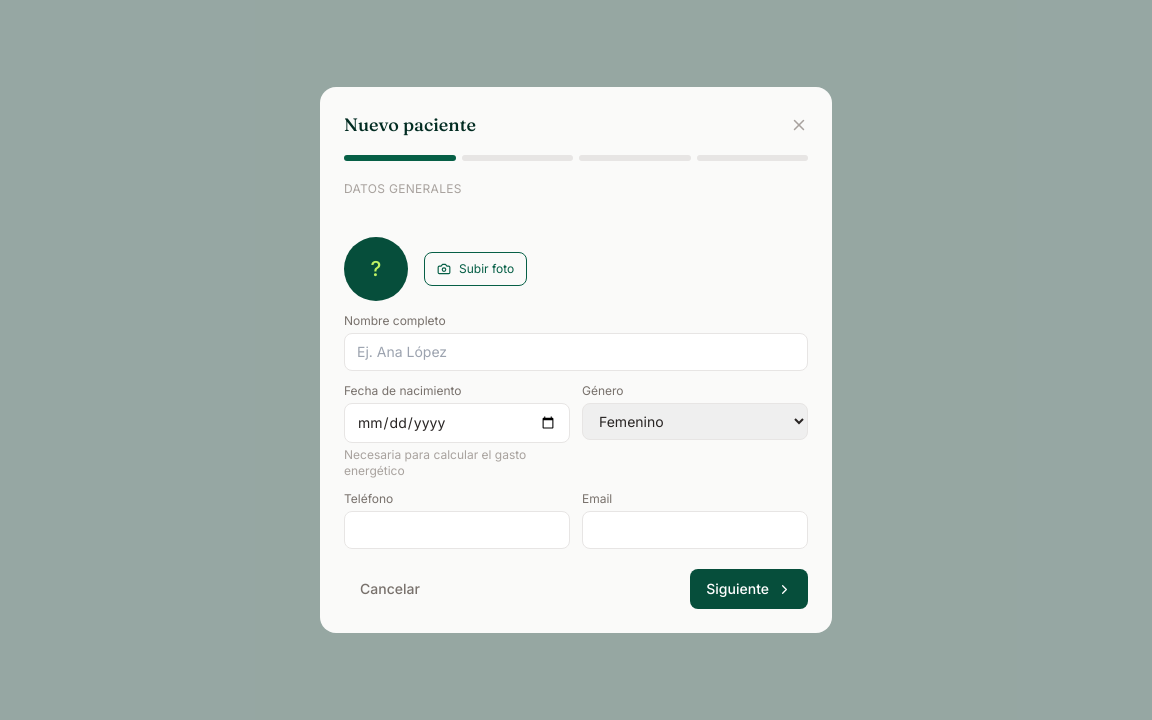
Test: condiciones médicas escritas por el nutriólogo › la agrega con Enter sin salir del campo
Click the button "Siguiente": x=749, y=589 [690, 569, 808, 609]
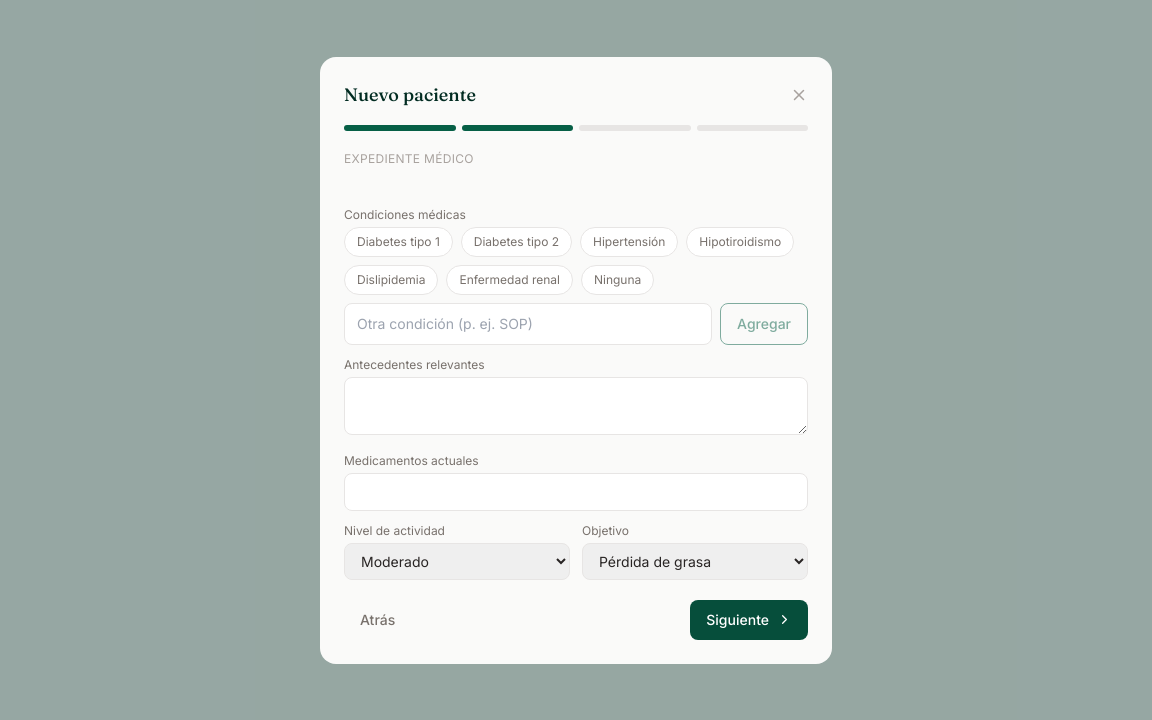
In the field with placeholder "Otra condición (p. ej. SOP)": x=528, y=324 [344, 302, 712, 344], type "Gastritis"
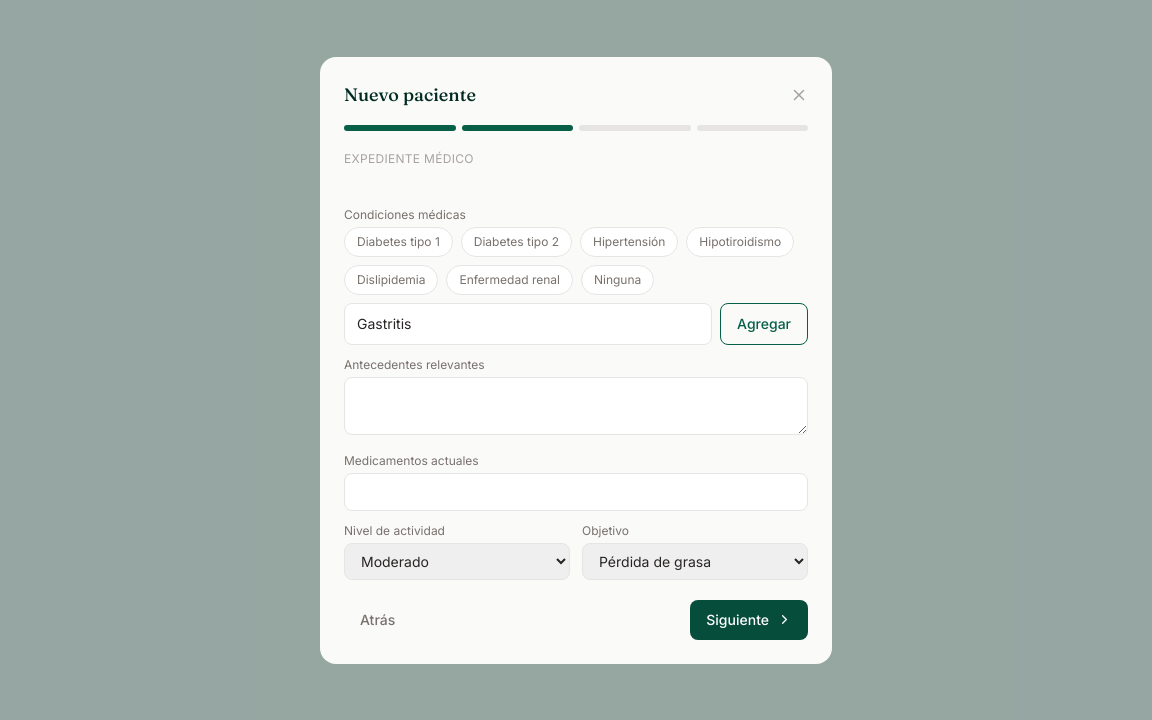
Press Enter in the field with placeholder "Otra condición (p. ej. SOP)", box [344, 302, 712, 344]
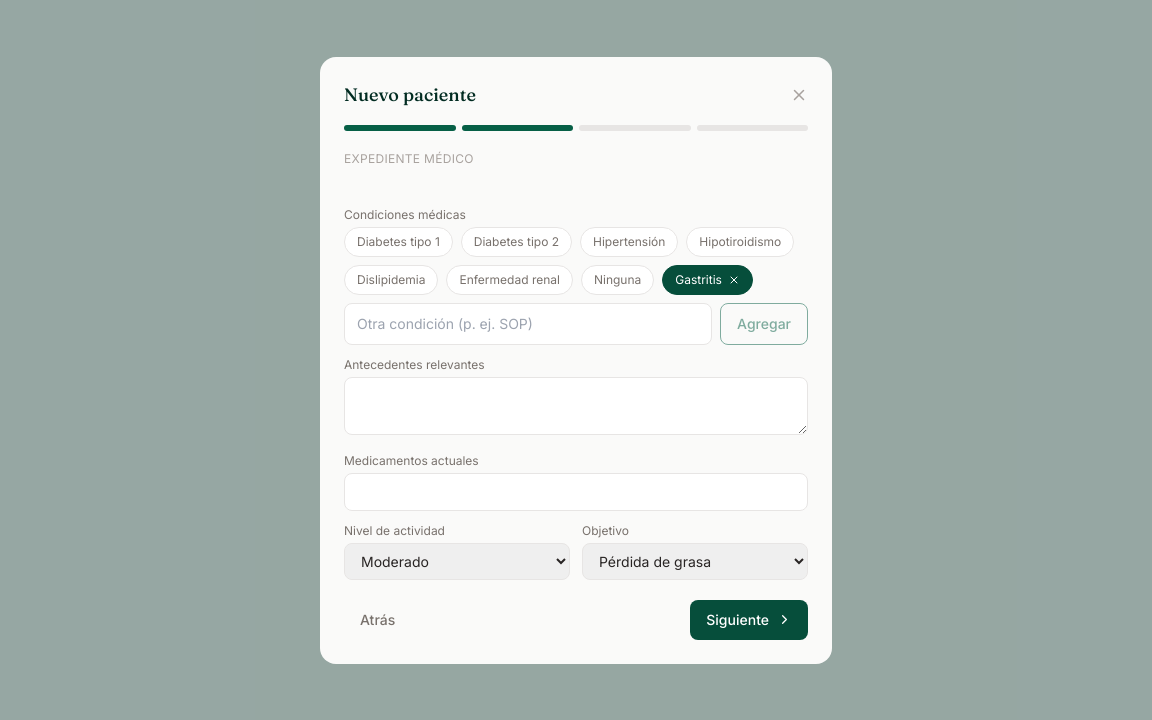
Expected: the button with aria-label "Quitar Gastritis" is shown, [662, 264, 753, 294]
